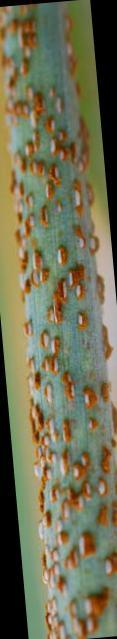Wheat: (2, 48, 98, 336), (28, 347, 111, 611)
